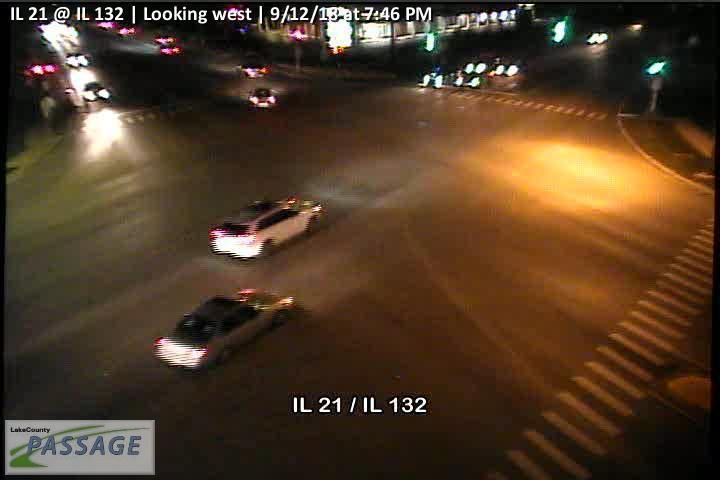Sedan: (148, 289, 295, 373), (208, 197, 324, 260)
